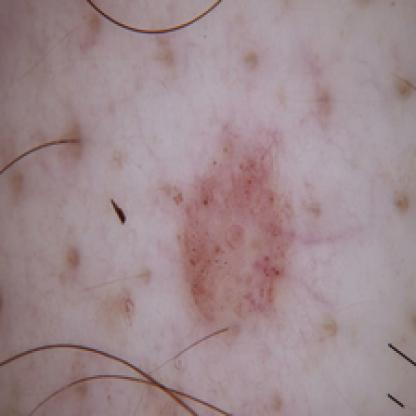benign: (173, 108, 301, 334)
